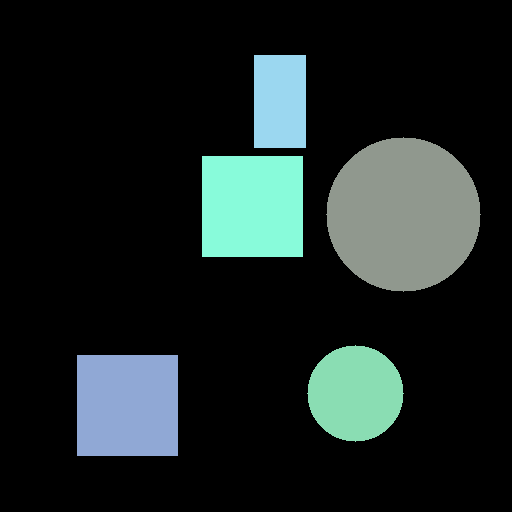circle: (326, 137, 480, 291), (307, 345, 403, 441)
rectangle: (254, 55, 305, 147)
square: (77, 355, 177, 455), (202, 156, 302, 256)
